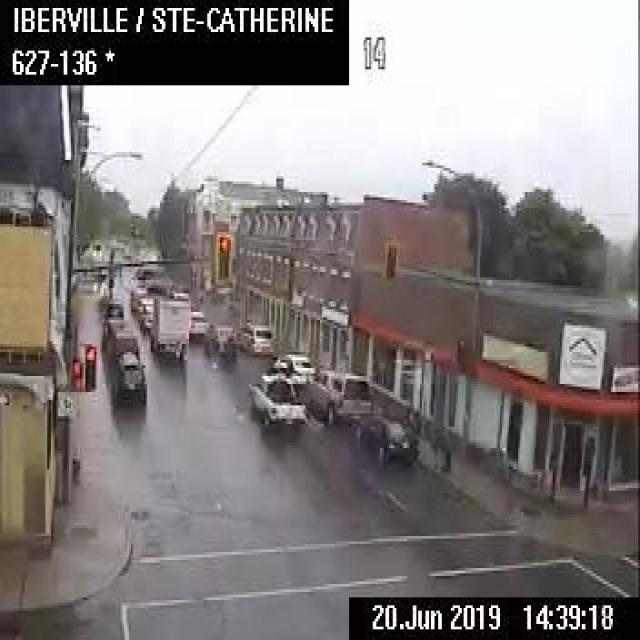pedestrian: (440, 424, 453, 472)
vehicle: (305, 366, 373, 423), (355, 412, 418, 465), (246, 373, 304, 429), (148, 292, 188, 358), (110, 349, 146, 402), (100, 316, 137, 357), (272, 350, 314, 384), (237, 320, 274, 353), (202, 321, 234, 358), (188, 308, 206, 332), (129, 284, 147, 308), (102, 299, 123, 317), (136, 295, 152, 318), (140, 307, 152, 334)
